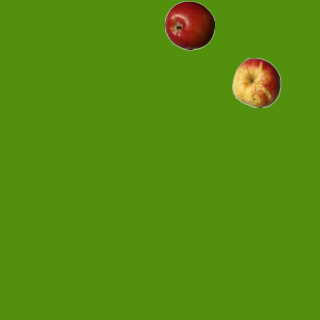Apple Braeburn: (164, 0, 214, 50)
Apple Red Yellow 1: (231, 57, 281, 107)
